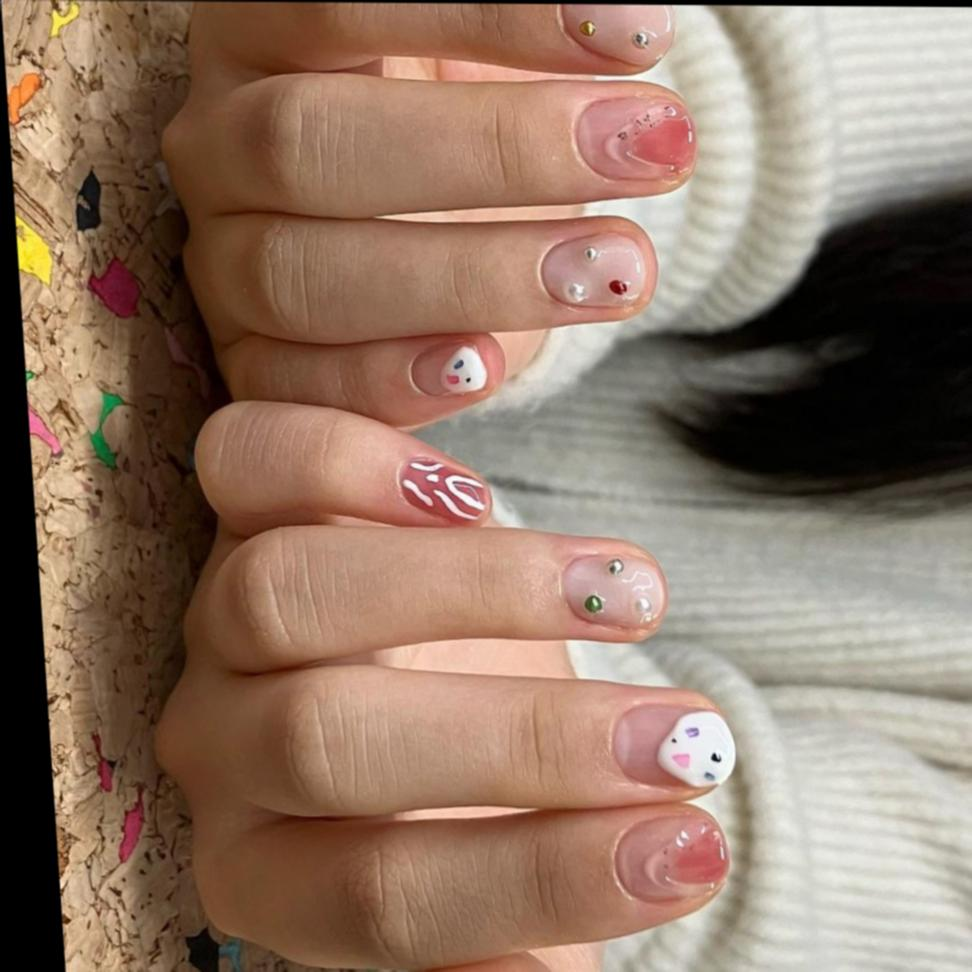nail: (611, 812, 734, 906), (573, 96, 701, 185), (561, 552, 670, 635), (538, 234, 651, 311), (558, 4, 679, 70), (406, 335, 508, 402), (396, 459, 495, 526)
